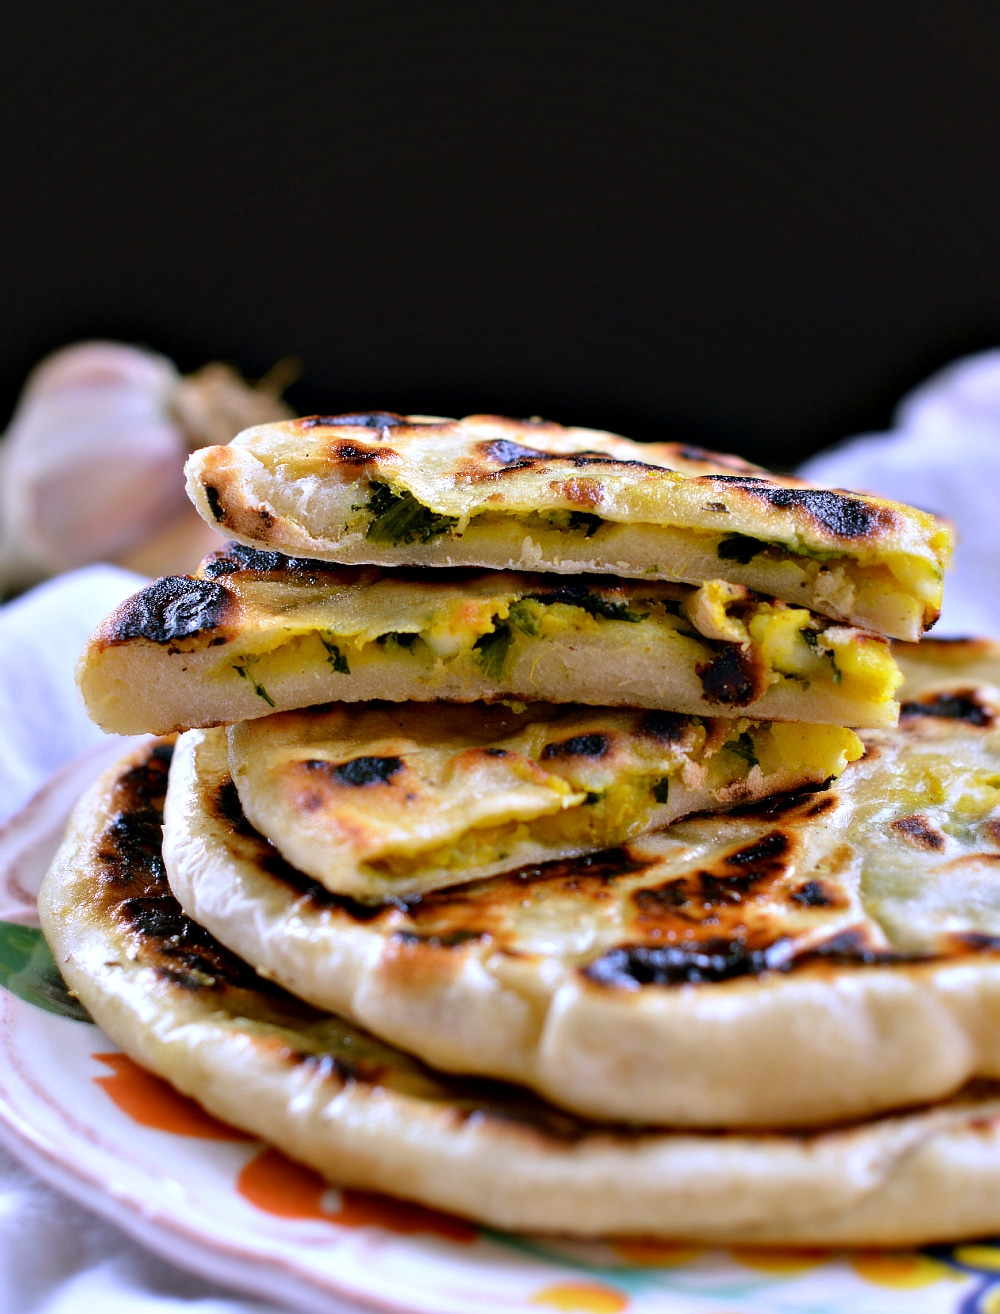aloo_paratha: (39, 400, 1000, 1250)
